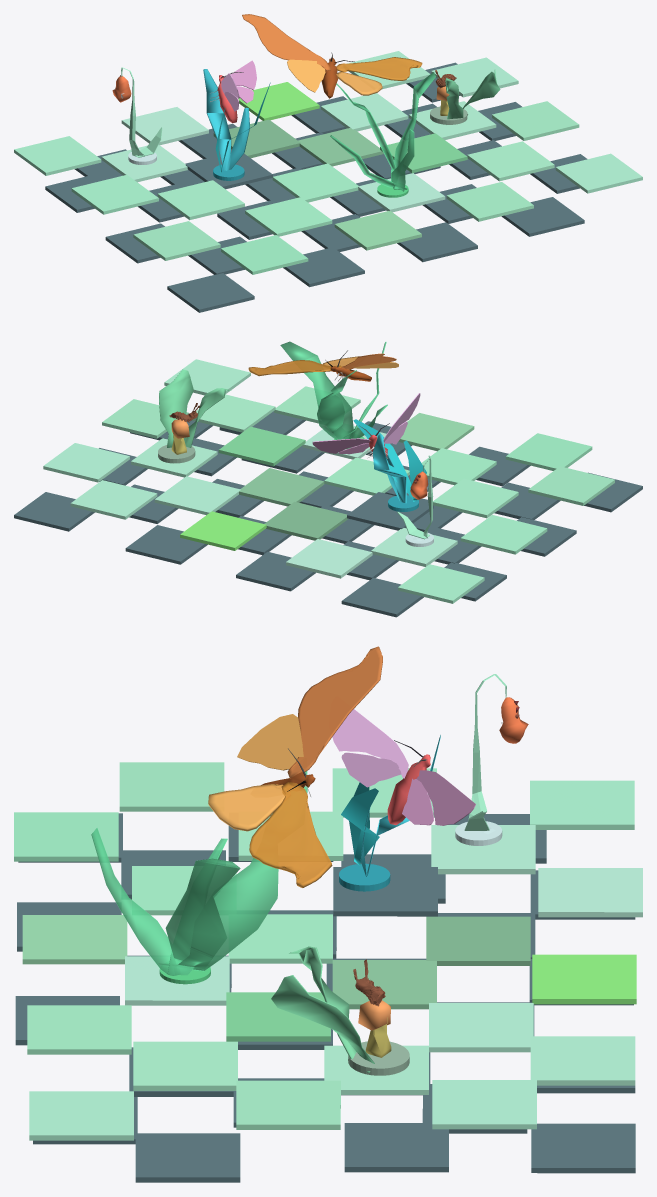
3 views of the same model, one above another, from view 1: azimuth 30°, elevation 25°; view 2: azimuth 150°, elevation 25°; view 3: azimuth 270°, elevation 25° (orthographic). The views are drawn at different scales.
Visible parts, largest first — view 1: Plane.014, Plane.027, Plane.016, Plane.026, Plane.028, Plane.029, Plane.034, Plane.055, Plane, Plane.033, Plane.030, Plane.032 (+46 smaller); view 2: Plane.014, Plane.023, Plane.018, Plane.027, Plane.019, Plane.029, Plane.021, Plane.024, Plane, Plane.028, Plane.022, Plane.003 (+44 smaller); view 3: Plane.014, Plane.021, Plane.043, Plane.045, Plane.032, Plane.023, Plane.016, Plane.019, Plane.024, Plane.026, Plane.034, Plane.033 (+40 smaller).
Boxes of the visible parts, x1,y1,x2,y2 form: Plane.014: [330, 72, 435, 191]; Plane.027: [71, 175, 158, 214]; Plane.016: [446, 182, 533, 221]; Plane.026: [492, 101, 579, 140]; Plane.028: [157, 180, 244, 220]; Plane.029: [133, 221, 220, 260]; Plane.034: [555, 153, 642, 193]; Plane.055: [167, 273, 254, 312]; Plane: [14, 136, 101, 175]; Plane.033: [467, 141, 554, 181]; Plane.030: [221, 235, 308, 274]; Plane.032: [334, 211, 421, 250]; Plane.014: [280, 341, 387, 439]; Plane.023: [70, 480, 157, 519]; Plane.018: [218, 426, 305, 466]; Plane.027: [460, 515, 547, 554]; Plane.019: [286, 539, 372, 578]; Plane.029: [528, 466, 614, 505]; Plane.021: [180, 511, 266, 550]; Plane.024: [43, 443, 129, 482]; Plane: [398, 564, 484, 603]; Plane.028: [433, 478, 518, 518]; Plane.022: [154, 476, 240, 515]; Plane.003: [264, 501, 348, 540]; Plane.014: [91, 771, 307, 975]; Plane.021: [532, 954, 636, 1004]; Plane.043: [531, 1123, 635, 1173]; Plane.045: [135, 1133, 240, 1182]; Plane.032: [22, 915, 127, 964]; Plane.023: [530, 1036, 635, 1085]; Plane.016: [27, 1005, 131, 1054]; Plane.019: [538, 868, 642, 917]; Plane.024: [432, 1080, 536, 1129]; Plane.026: [236, 1080, 340, 1129]; Plane.034: [29, 1091, 133, 1140]; Plane.033: [133, 1041, 237, 1090].
Size of the model in its own units: 72.39 by 28.93 by 53.35.
